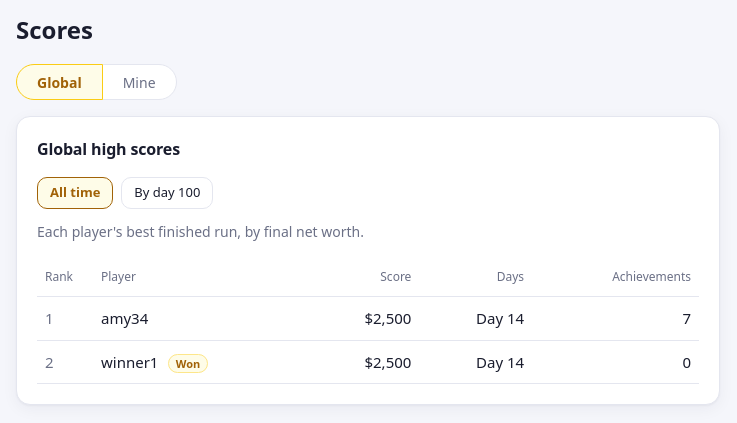
Test: ScoresComponent day 100 board › explains an empty day 100 board and why old runs are missing
Click the button with class "board-100".
click(167, 193)  # box x1=121 y1=177 x2=213 y2=209
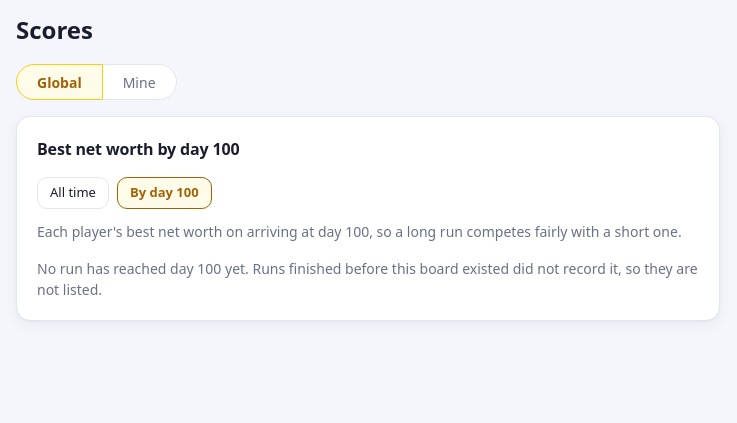
Expected: the text with class "empty" shows "No run has reached day 100 yet", x1=37 y1=259 x2=698 y2=299
Expected: the text with class "empty" shows "did not record it", x1=37 y1=259 x2=698 y2=299
Expected: the table is gone
